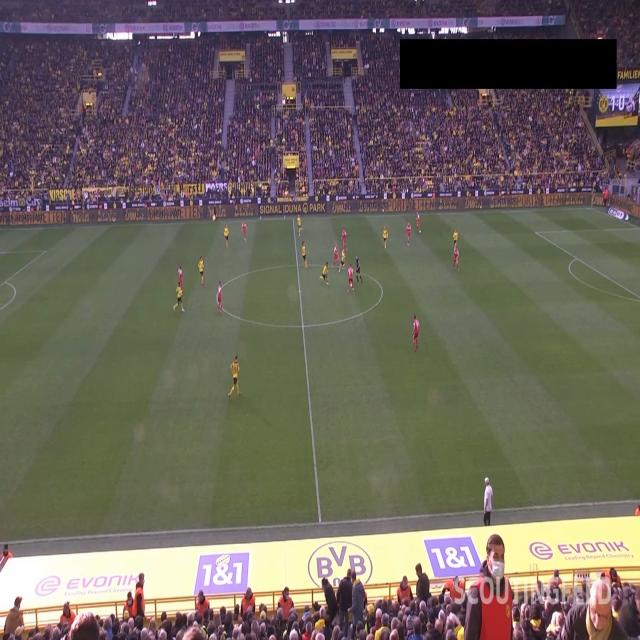ball: (349, 282, 353, 289)
